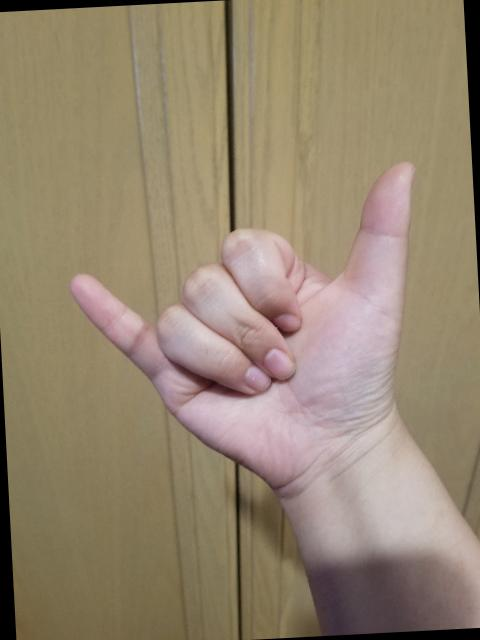Y: (57, 154, 440, 498)
